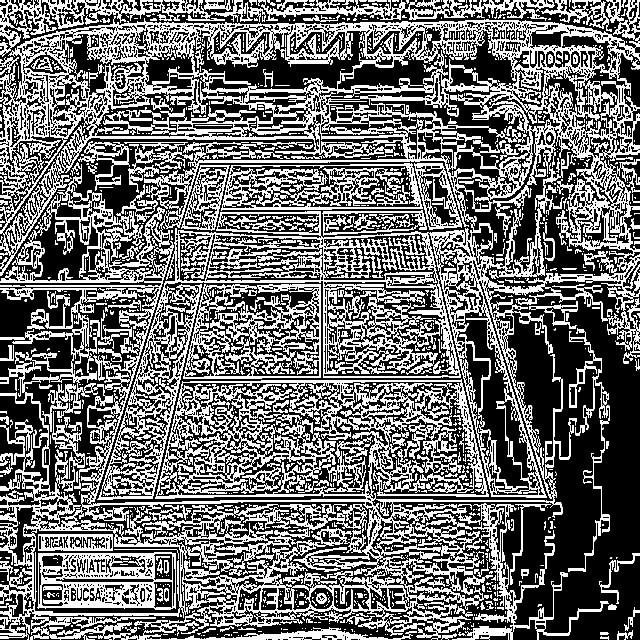left side: (94, 163, 230, 502), (412, 161, 548, 499)
player: (359, 424, 394, 564), (304, 82, 324, 154)
